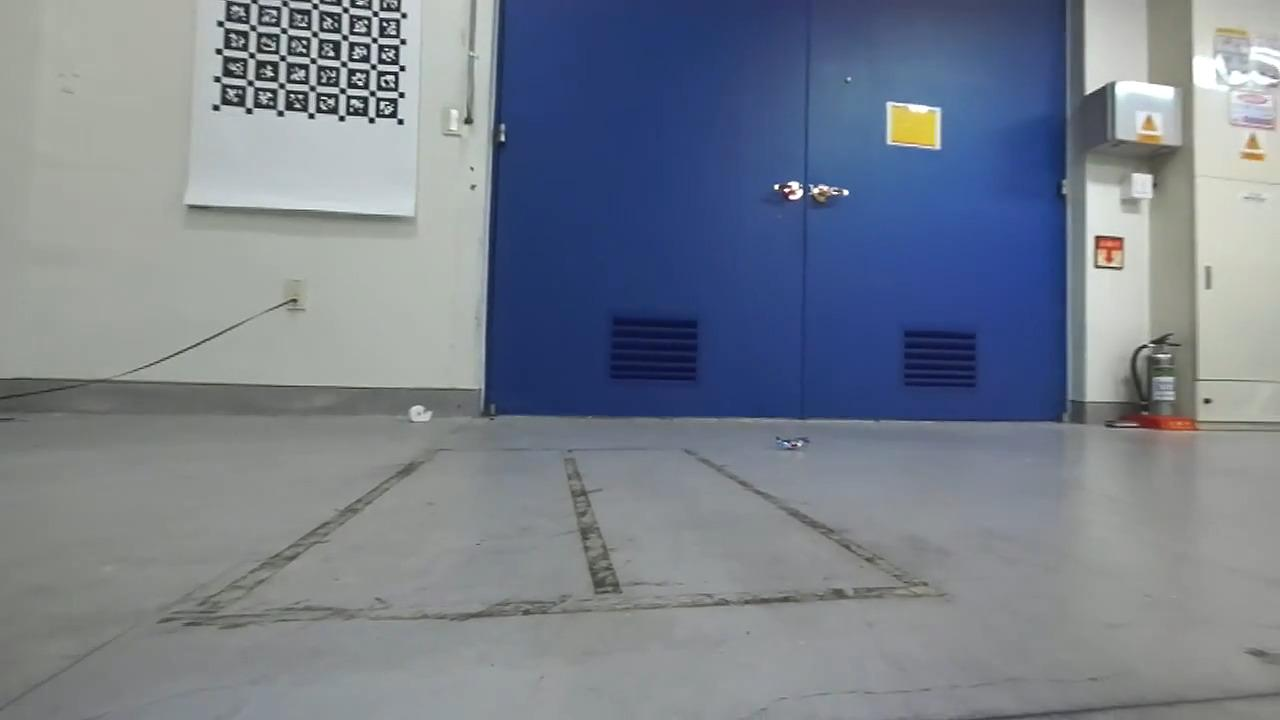crazyflie: (765, 429, 821, 458)
